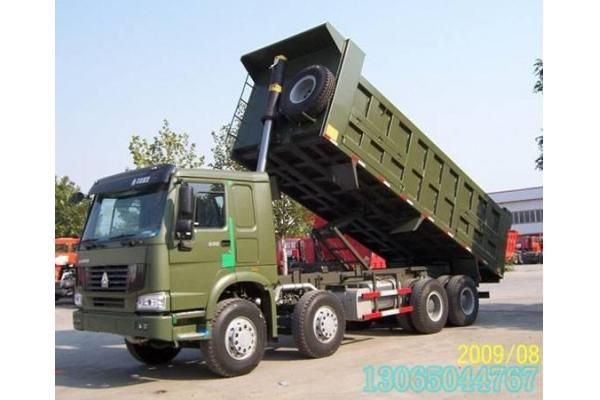truck: (76, 58, 491, 353)
